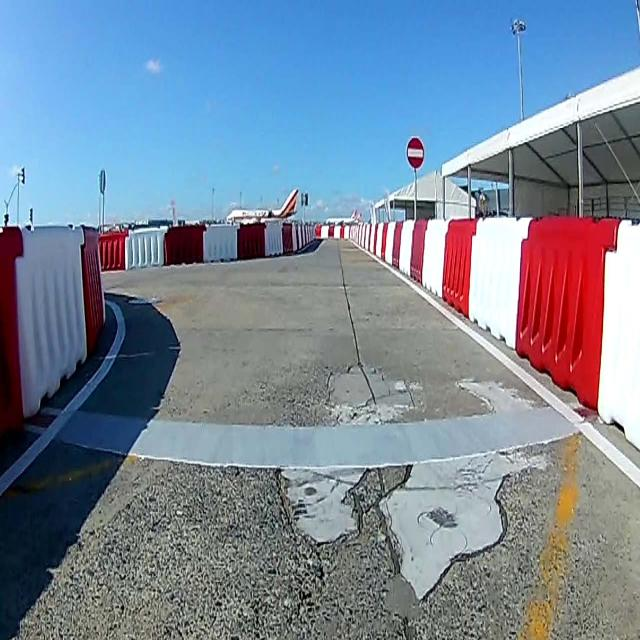girisyok: (406, 136, 424, 170)
